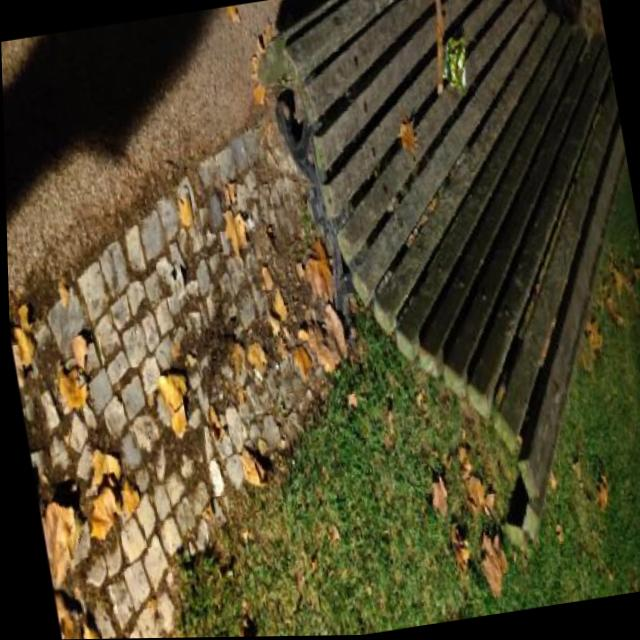plastic: (435, 35, 473, 100)
